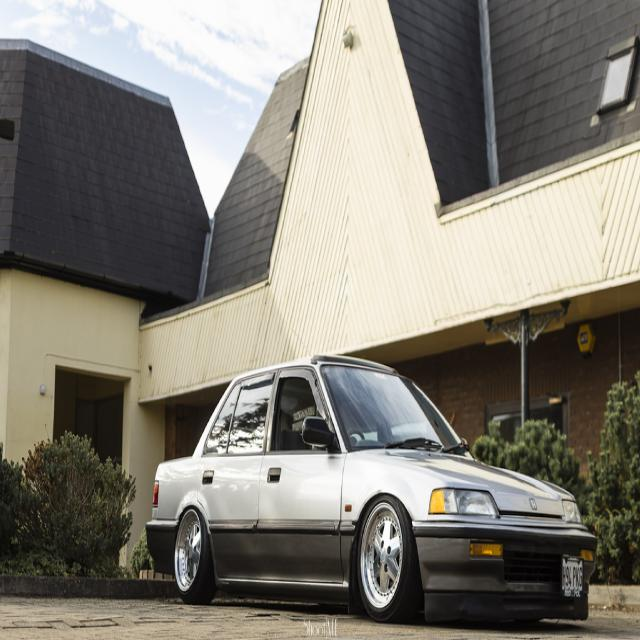car: (146, 348, 598, 633)
